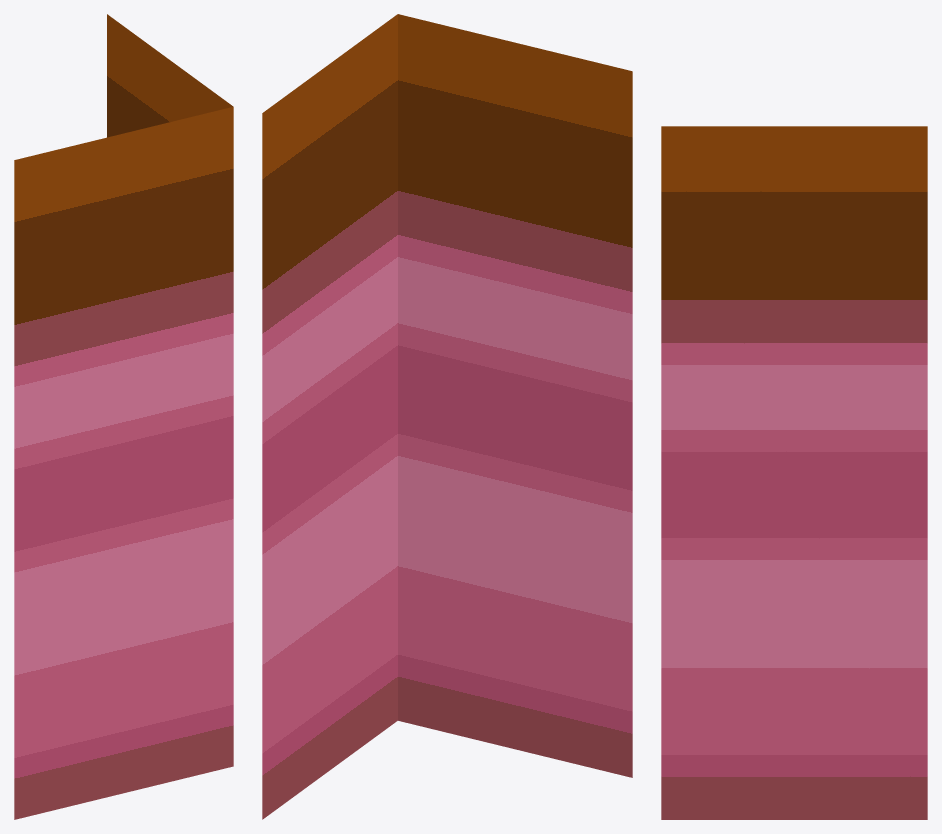
The picture shows the model from 3 angles, left to right: view 1: azimuth 30°, elevation 25°; view 2: azimuth 150°, elevation 25°; view 3: azimuth 270°, elevation 25°; orthographic projection. The views are drawn at different scales.
Bounding box in the file's own units: 0.5 × 1.44 × 0.5.
1 material, 1 textured.
